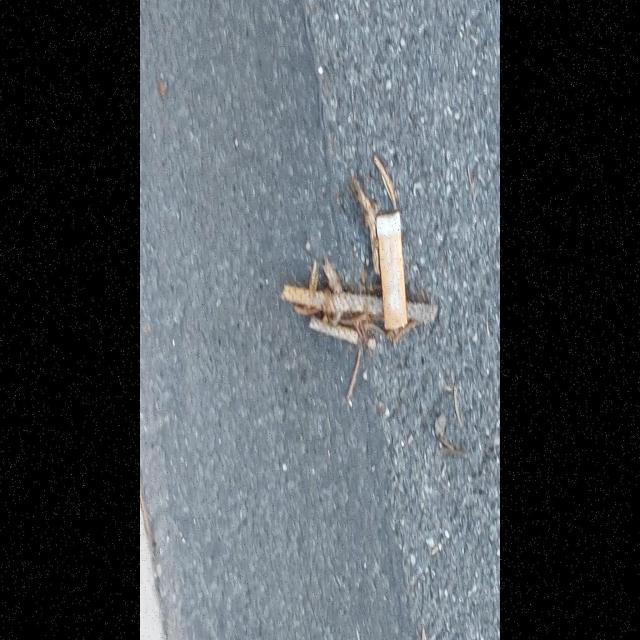other waste: (376, 210, 408, 331)
